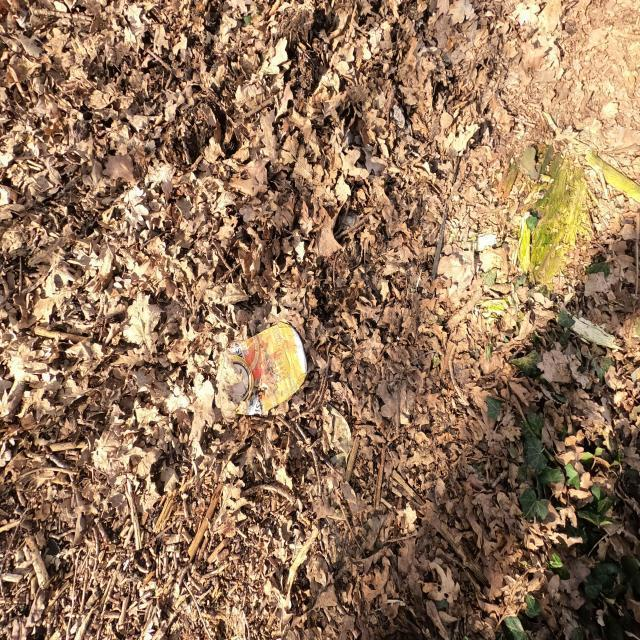Can-Metal: (216, 320, 308, 418)
